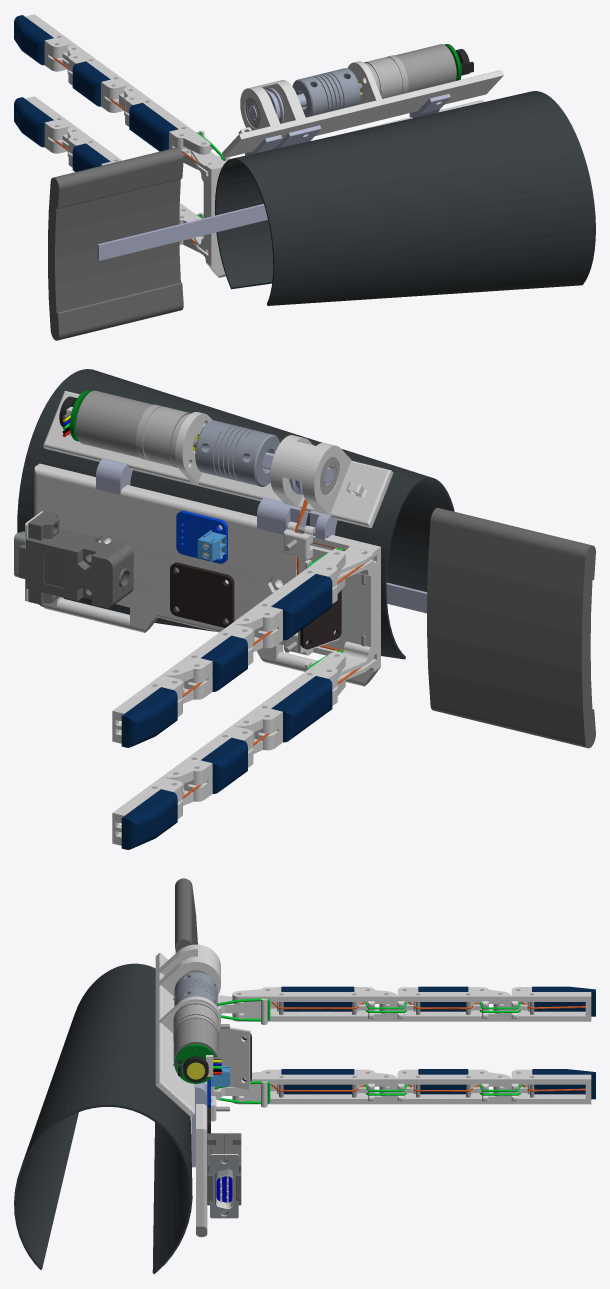
File: DorsalGrasper2.glb
3 renders of one model, top to bottom at view 1: azimuth 30°, elevation 25°; view 2: azimuth 150°, elevation 25°; view 3: azimuth 270°, elevation 25°, orthographic. The views are drawn at different scales.
Visible parts, largest first — view 1: 3MFMeshParent_32; view 2: 3MFMeshParent_32; view 3: 3MFMeshParent_32.
Boxes of the visible parts, <box> form: 3MFMeshParent_32: <box>14,14,595,340</box>; 3MFMeshParent_32: <box>14,369,595,849</box>; 3MFMeshParent_32: <box>14,878,595,1273</box>.
Size of the model in its own units: 0.2329 by 0.0996 by 0.2553.
